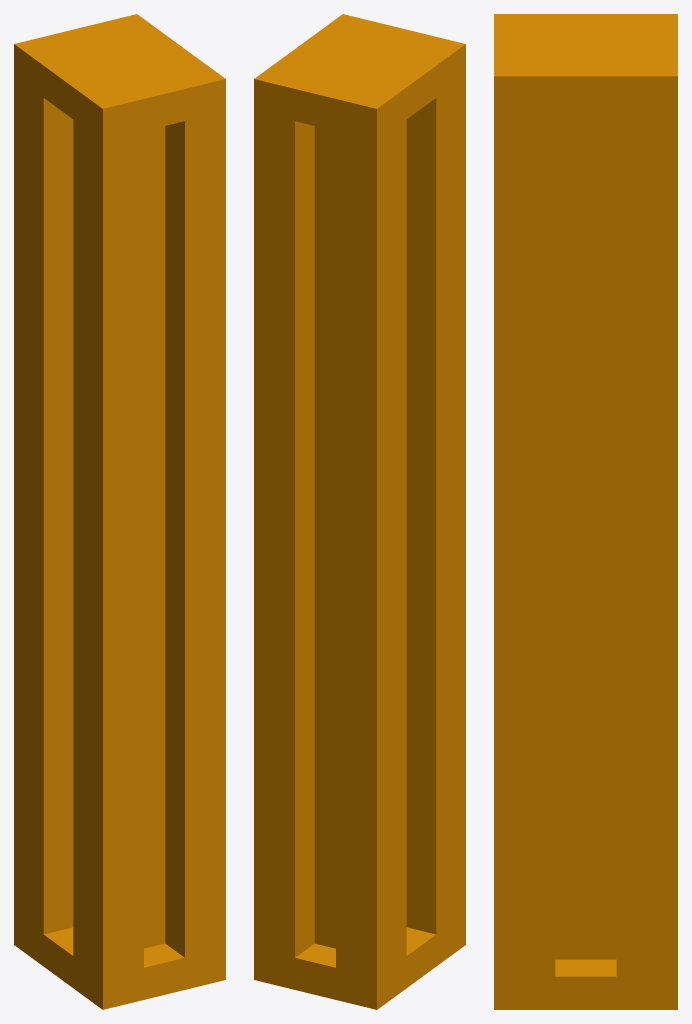
The model's file is GearChamberBeamColumn.fbx.
The picture shows the model from 3 angles, left to right: view 1: azimuth 30°, elevation 25°; view 2: azimuth 150°, elevation 25°; view 3: azimuth 270°, elevation 25°; orthographic projection. The views are drawn at different scales.
Visible parts, largest first — view 1: GearChamberBeam.003; view 2: GearChamberBeam.003; view 3: GearChamberBeam.003.
Part boxes in pixels (x1,y1,x2,y2): GearChamberBeam.003: [14, 14, 225, 1009]; GearChamberBeam.003: [254, 14, 465, 1009]; GearChamberBeam.003: [494, 14, 677, 1009].
Size of the model in its own units: 400 by 2800 by 500.
